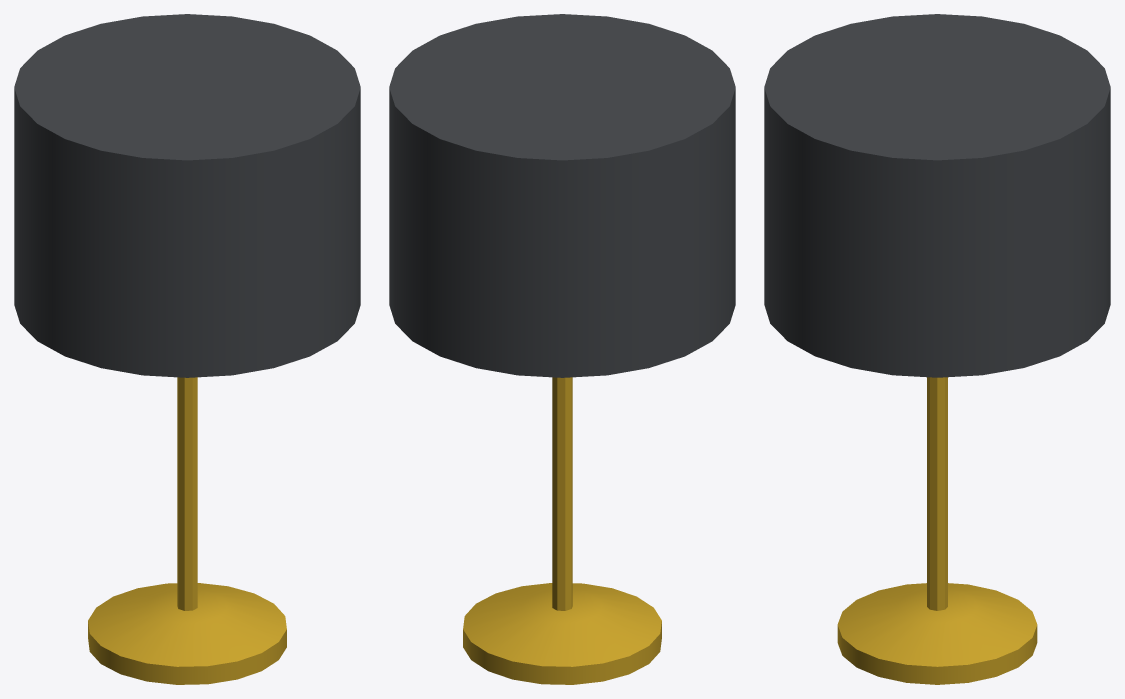
Rendered from prop_lamp_bedside.glb.
The picture shows the model from 3 angles, left to right: view 1: azimuth 30°, elevation 25°; view 2: azimuth 150°, elevation 25°; view 3: azimuth 270°, elevation 25°; orthographic projection.
Visible parts, largest first — view 1: Lamp; view 2: Lamp; view 3: Lamp.
Part boxes in pixels (x1,y1,x2,y2): Lamp: (14,14,360,684); Lamp: (389,14,735,684); Lamp: (764,14,1110,684).
Size of the model in its own units: 0.26 by 0.46 by 0.26.
